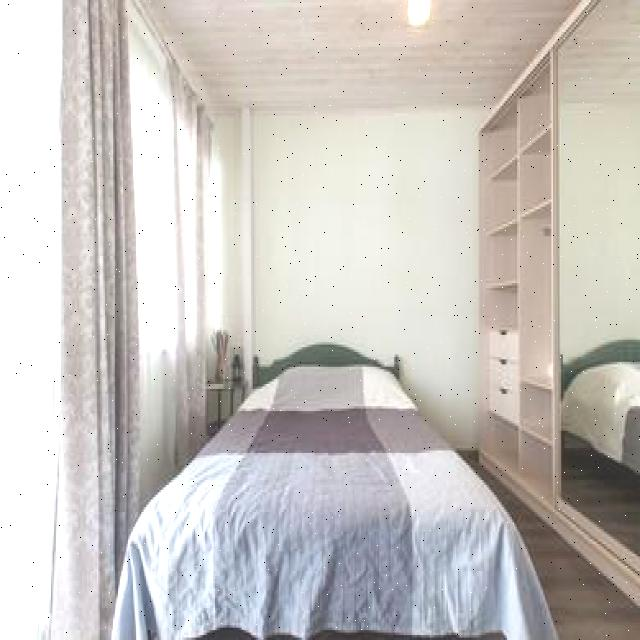bed: (142, 340, 468, 640)
